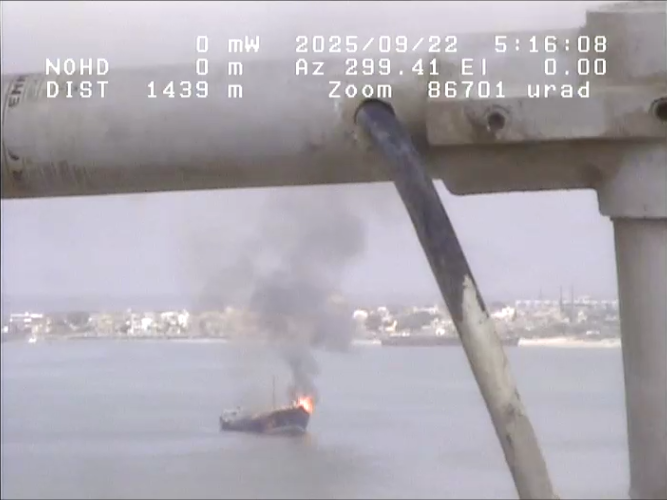FIRE_ONBOARD: (179, 259, 362, 454)
FISHING_VESSEL: (206, 395, 329, 438)
